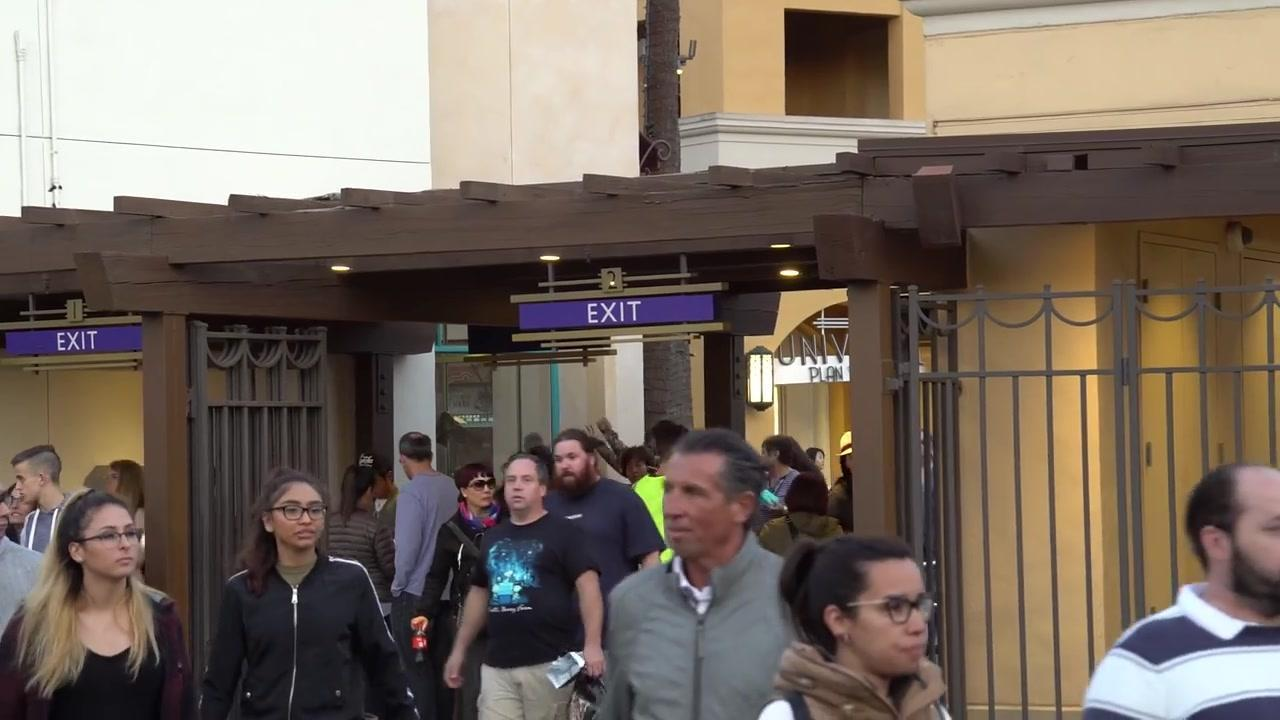Ear-protection: (1067, 450, 1279, 719), (612, 425, 779, 710), (758, 528, 986, 720), (0, 486, 187, 719), (226, 466, 394, 720), (469, 468, 594, 716), (369, 422, 464, 720)
